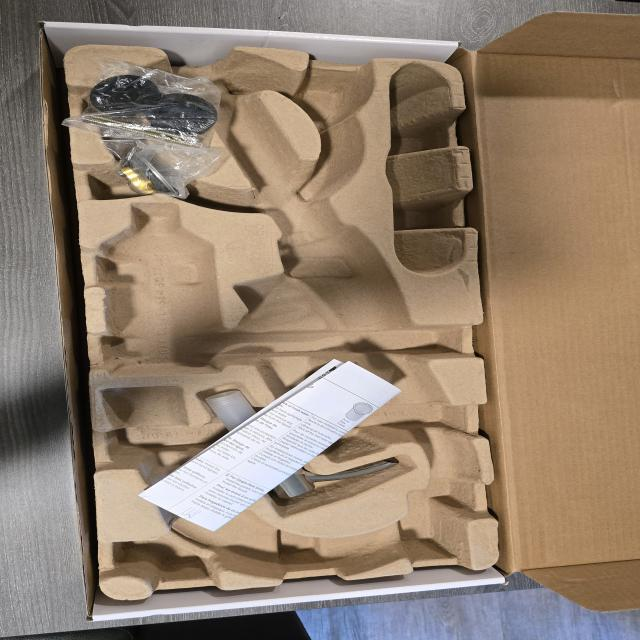1m: (102, 52, 485, 575)
2o: (204, 390, 399, 498)
3m: (95, 202, 213, 373)
4m: (387, 64, 465, 274)
5m: (298, 78, 368, 124)
6o: (92, 128, 222, 196)
7: (62, 60, 231, 151)
8: (136, 358, 405, 531)
